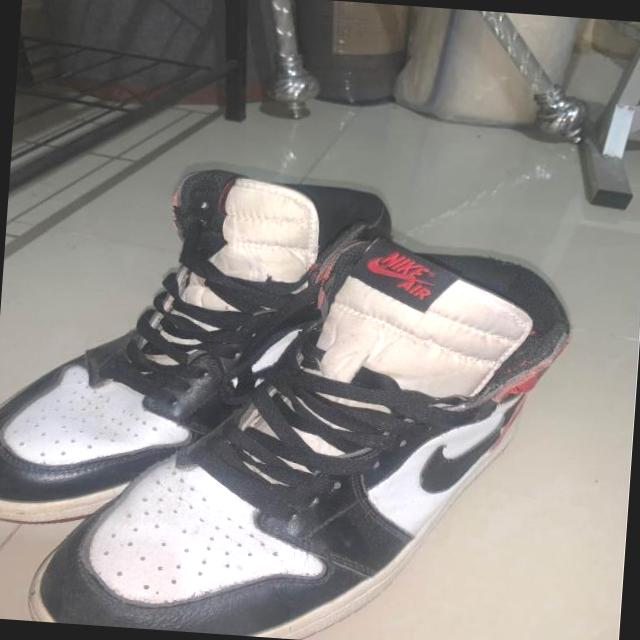nike_fake_jordan: (22, 212, 556, 640), (0, 156, 453, 557)
